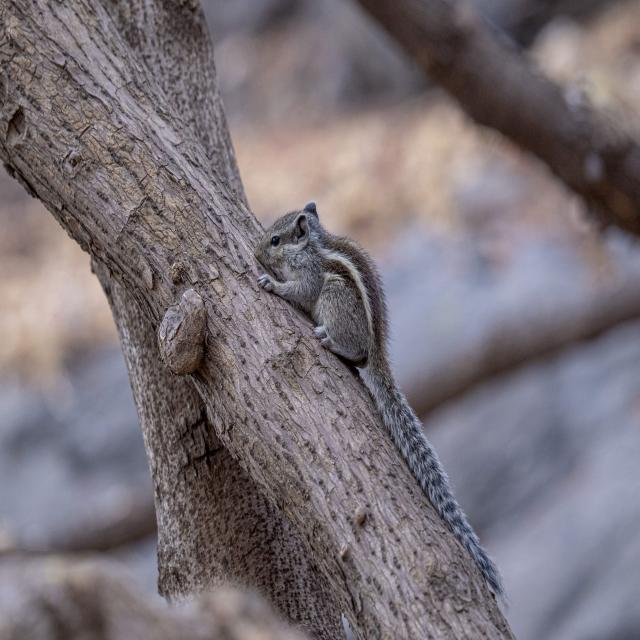Squirrel: (256, 198, 434, 468)
